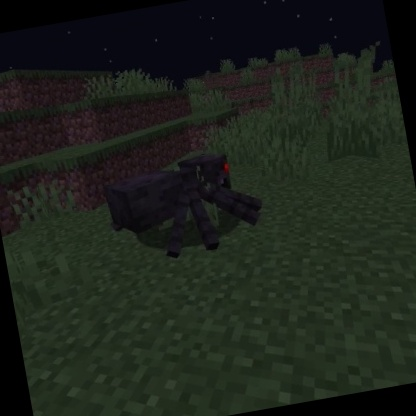spider: (95, 141, 273, 274)
